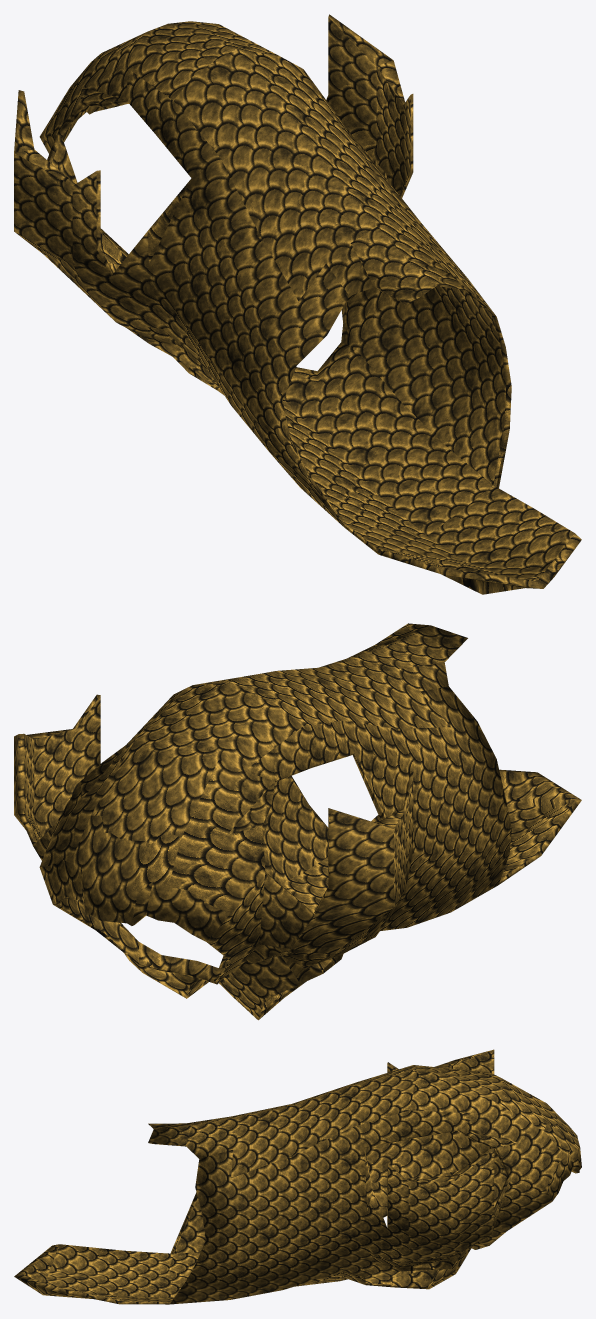
File: body_overlay_gold.obj
3 views of the same model, one above another, from view 1: azimuth 30°, elevation 25°; view 2: azimuth 150°, elevation 25°; view 3: azimuth 270°, elevation 25° (orthographic). The views are drawn at different scales.
Visible parts, largest first — view 1: Torso_Plate_Body_Cube.000; view 2: Torso_Plate_Body_Cube.000; view 3: Torso_Plate_Body_Cube.000.
Boxes of the visible parts, left/top/right/bottom form: Torso_Plate_Body_Cube.000: left=14, top=14, right=581, bottom=594; Torso_Plate_Body_Cube.000: left=14, top=623, right=581, bottom=1020; Torso_Plate_Body_Cube.000: left=14, top=1049, right=581, bottom=1304.
Size of the model in its own units: 2.37 by 2.1 by 4.69.
